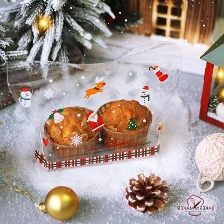snack: (1, 33, 191, 178)
